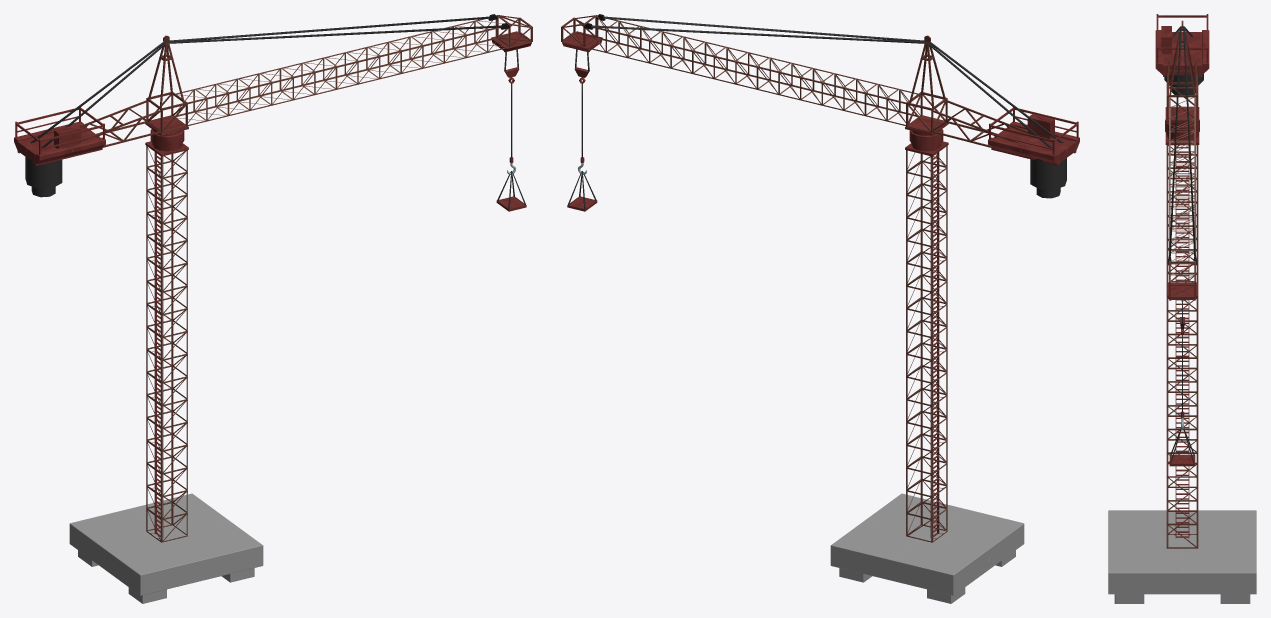
The model's file is FaseIndustrialAssetsGui.fbx.
The picture shows the model from 3 angles, left to right: view 1: azimuth 30°, elevation 25°; view 2: azimuth 150°, elevation 25°; view 3: azimuth 270°, elevation 25°; orthographic projection. The views are drawn at different scales.
Visible parts, largest first — view 1: Base, TrelicasBaseLow, TrelicasPonteLow, Contrapeso, Parte Superior, Cabos, EscadaGuindaste, Gancho; view 2: Base, TrelicasBaseLow, TrelicasPonteLow, Contrapeso, Parte Superior, Cabos, EscadaGuindaste, Gancho; view 3: Base, TrelicasBaseLow, EscadaGuindaste, Contrapeso, TrelicasPonteLow, Parte Superior, Cabos, Gancho, Ponta.
Boxes of the visible parts, left/top/right/bottom form: Base: left=69, top=493, right=263, bottom=603; TrelicasBaseLow: left=146, top=146, right=187, bottom=542; TrelicasPonteLow: left=172, top=15, right=509, bottom=125; Contrapeso: left=14, top=107, right=105, bottom=197; Parte Superior: left=79, top=42, right=188, bottom=156; Cabos: left=30, top=14, right=510, bottom=148; EscadaGuindaste: left=150, top=152, right=163, bottom=539; Gancho: left=491, top=31, right=531, bottom=211; Base: left=830, top=493, right=1024, bottom=603; TrelicasBaseLow: left=906, top=146, right=947, bottom=542; TrelicasPonteLow: left=584, top=15, right=921, bottom=125; Contrapeso: left=988, top=107, right=1079, bottom=198; Parte Superior: left=905, top=42, right=1027, bottom=156; Cabos: left=583, top=14, right=1063, bottom=148; EscadaGuindaste: left=930, top=152, right=943, bottom=539; Gancho: left=562, top=31, right=602, bottom=211; Base: left=1108, top=510, right=1256, bottom=603; TrelicasBaseLow: left=1166, top=145, right=1198, bottom=548; EscadaGuindaste: left=1174, top=146, right=1190, bottom=537; Contrapeso: left=1155, top=14, right=1209, bottom=94; TrelicasPonteLow: left=1169, top=97, right=1195, bottom=282; Parte Superior: left=1165, top=27, right=1199, bottom=144; Cabos: left=1168, top=20, right=1196, bottom=265; Gancho: left=1166, top=282, right=1198, bottom=466; Ponta: left=1169, top=261, right=1195, bottom=297.
Size of the model in its own units: 2256 by 2291 by 555.
